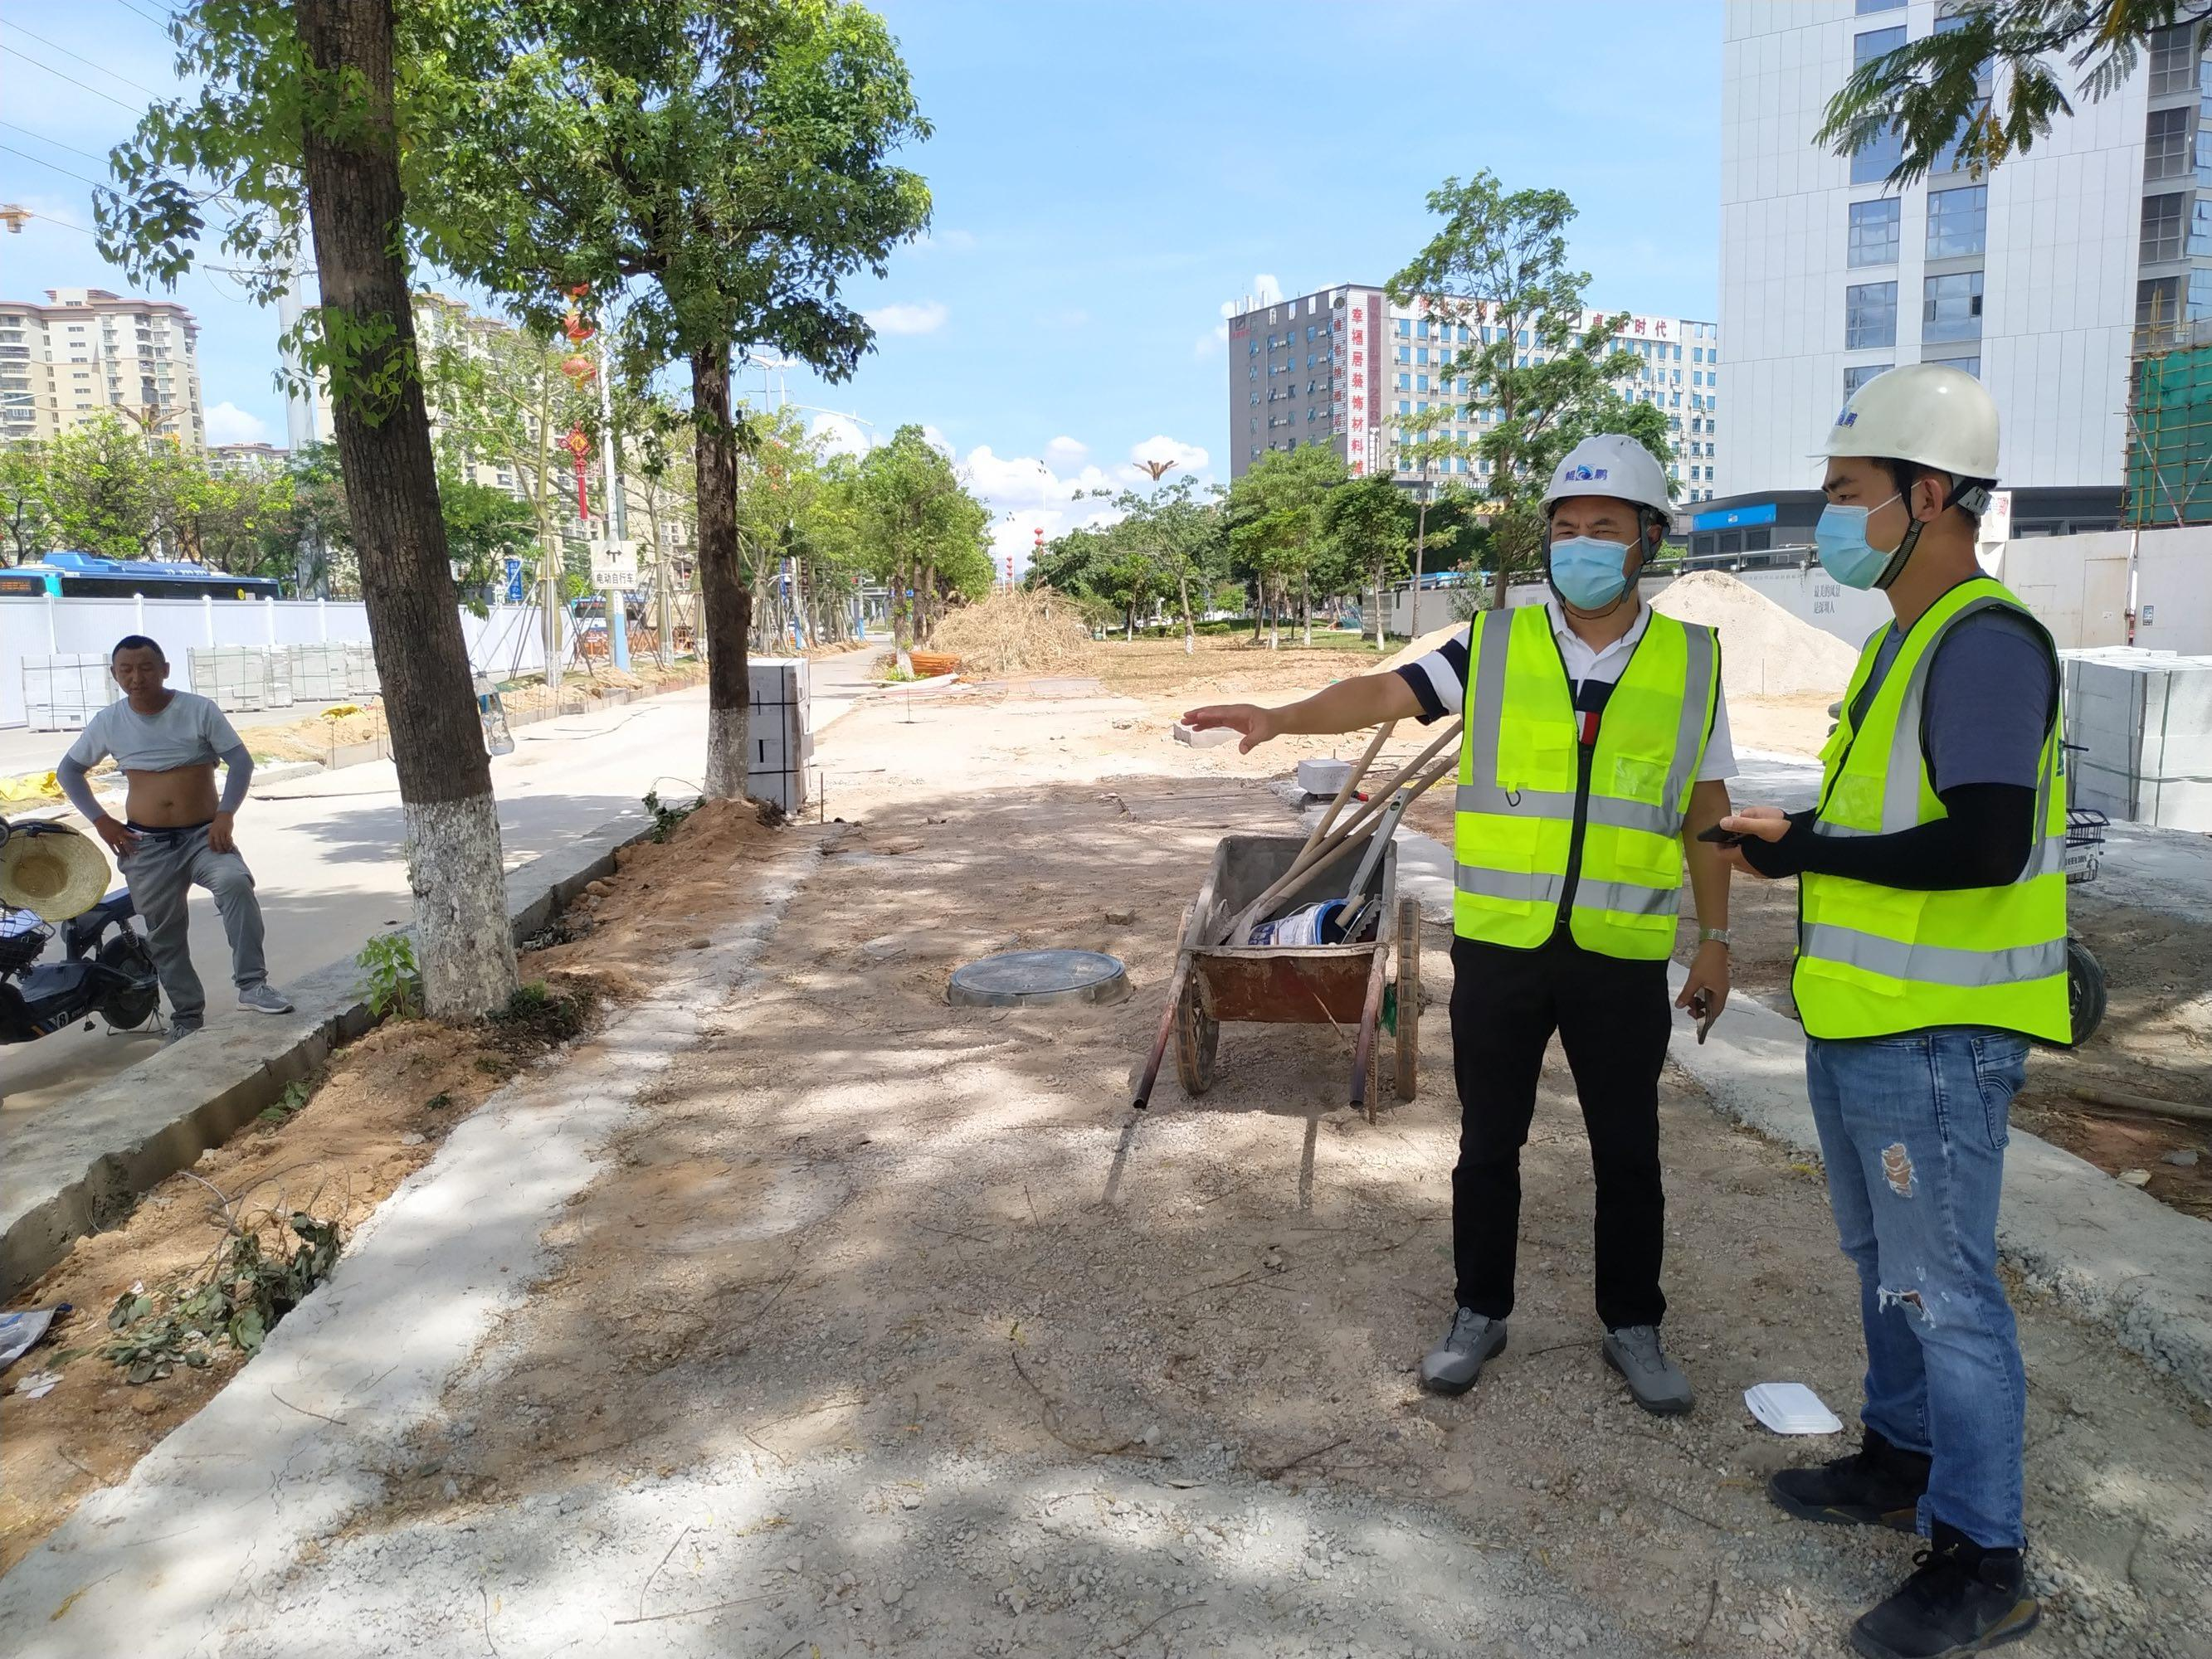head: (100, 631, 177, 713)
ordinary_clothes: (94, 697, 212, 776)
person: (1182, 420, 1732, 1418), (1717, 358, 2079, 1658), (53, 631, 298, 1050)
reflective_vest: (1788, 576, 2078, 1050), (1447, 607, 1722, 969)
safety_helmet: (1802, 357, 2005, 607), (1535, 422, 1679, 624)
